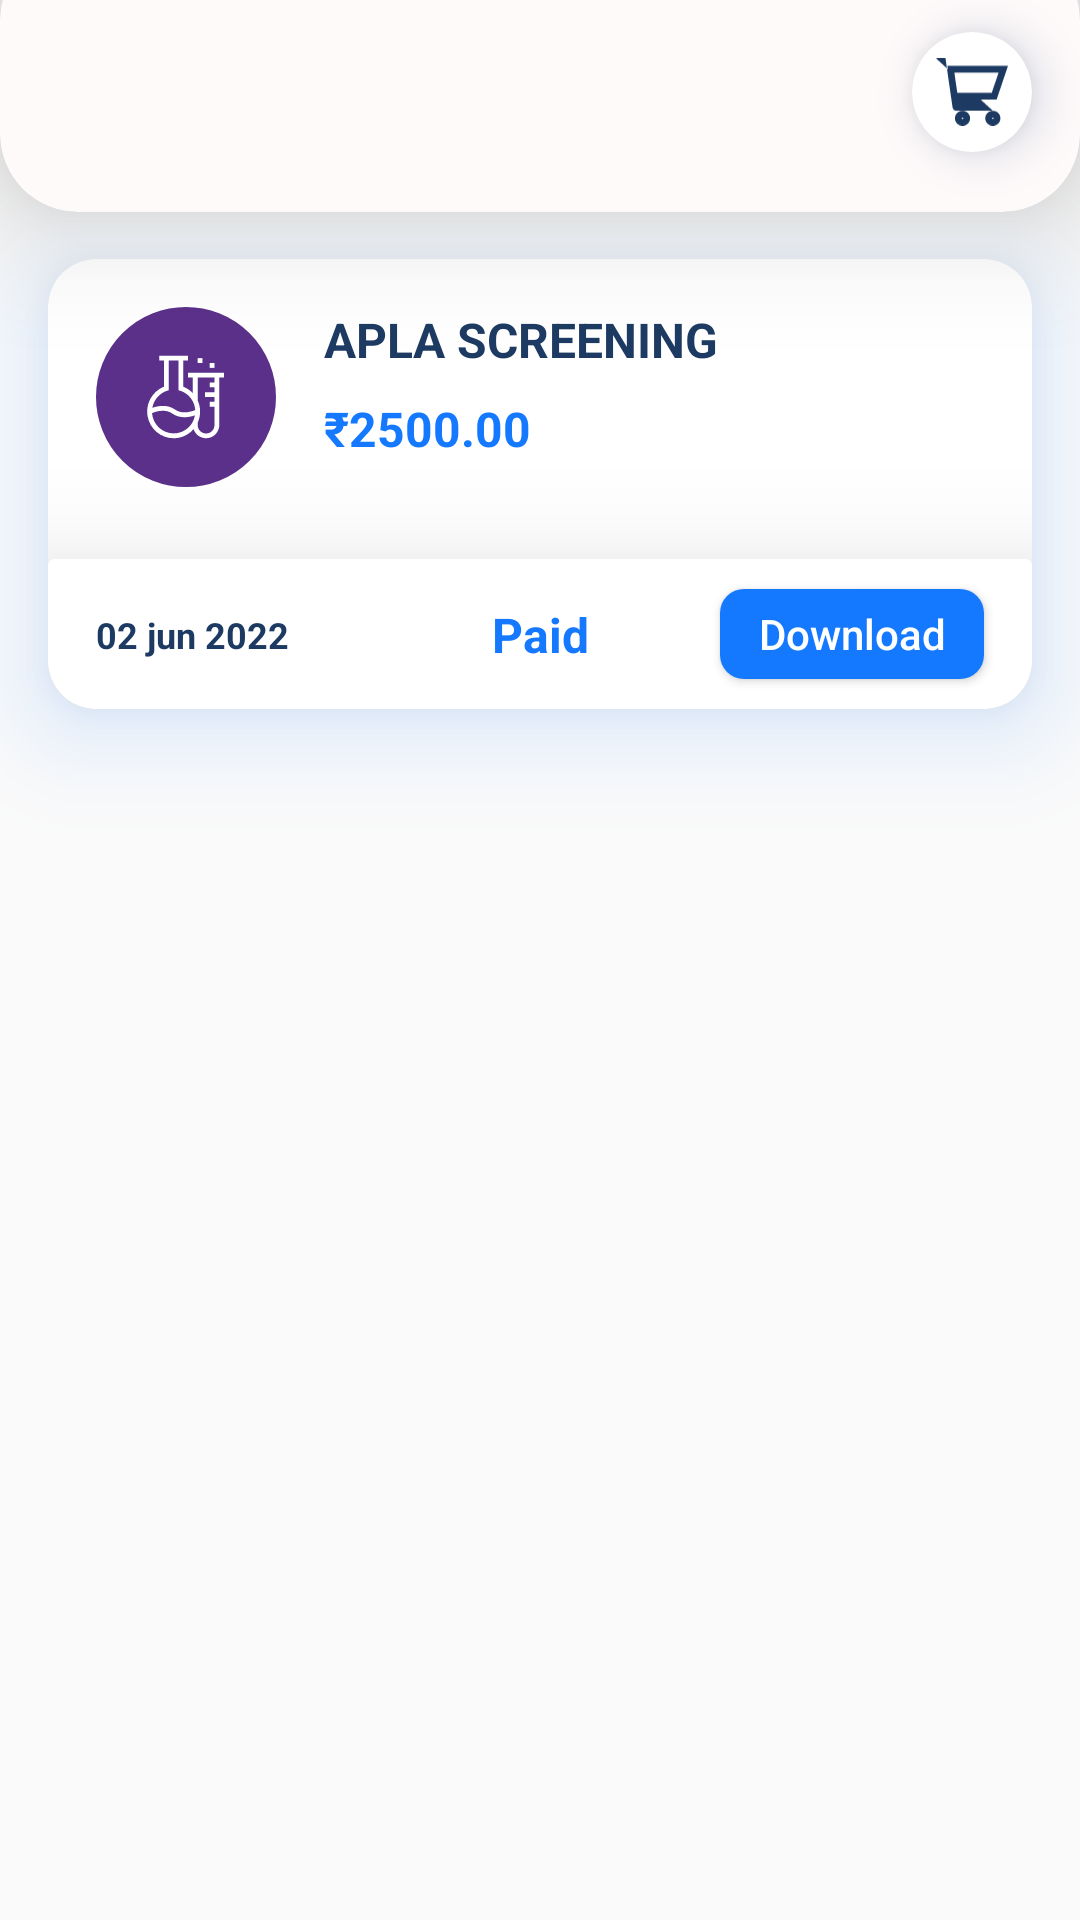

Point at icon controls on the screen. Image size 1080×1920, points as point (x, y).
cart: point (972, 92)
